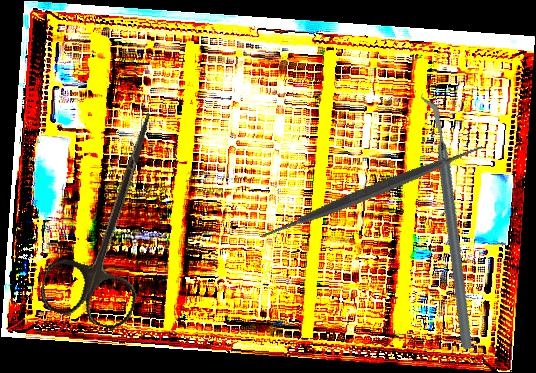Chopper: (357, 92, 536, 352)
Iris Scissors: (35, 98, 190, 334)
Spatula Surgical: (248, 68, 496, 316)
